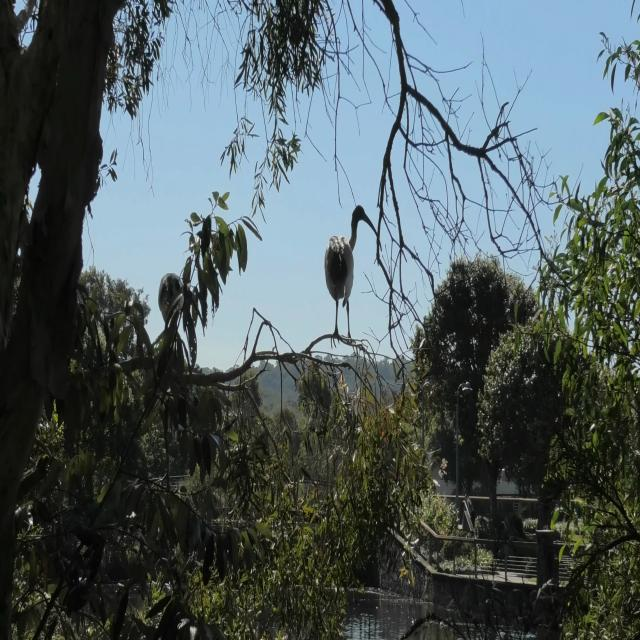Birds-Ibis: (322, 200, 384, 354), (156, 268, 194, 338)
